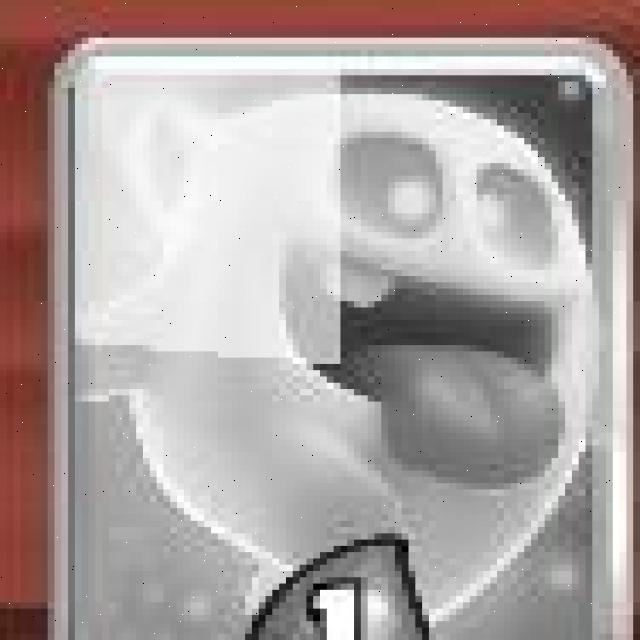Heal_Spirit: (61, 34, 629, 640)
